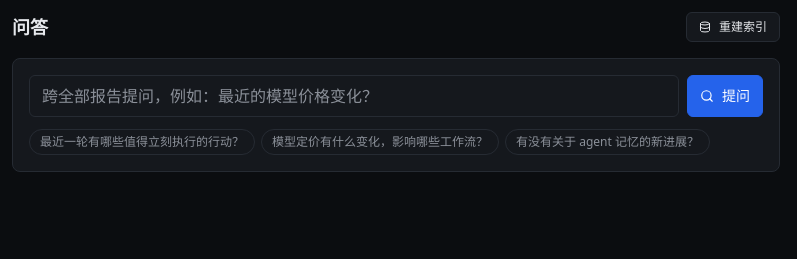
Test: AskPage › shows a visible in-flight state with the pending question
The image size is (797, 259).
Type "最近的模型价格变化" into the field with placeholder "跨全部报告提问，例如：最近的模型价格变化？" at [354, 96], box [29,75,679,117]
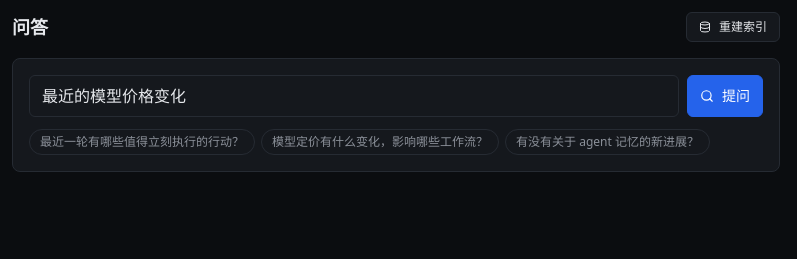
Click the button "提问" at [725, 96], box [687,75,763,117]
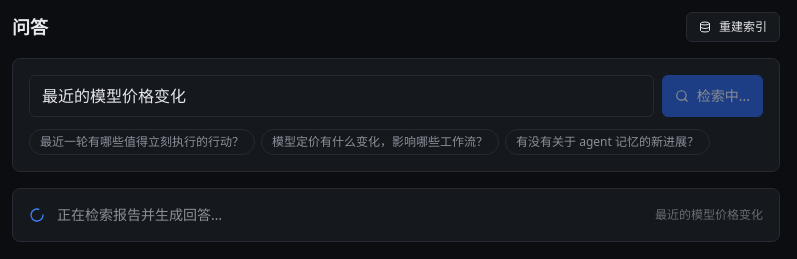
Result: the text "正在检索报告并生成回答…" is shown at [57,205,222,225]
Result: the text "最近的模型价格变化" is shown at [655,207,763,223]
